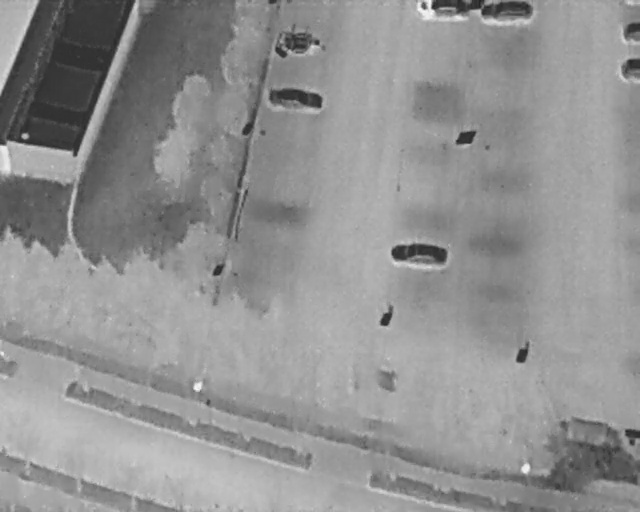Car: (552, 414, 640, 473), (274, 28, 325, 60), (268, 87, 323, 115), (390, 242, 448, 267), (417, 0, 469, 21), (480, 2, 534, 22), (621, 56, 640, 82), (620, 22, 640, 43)
